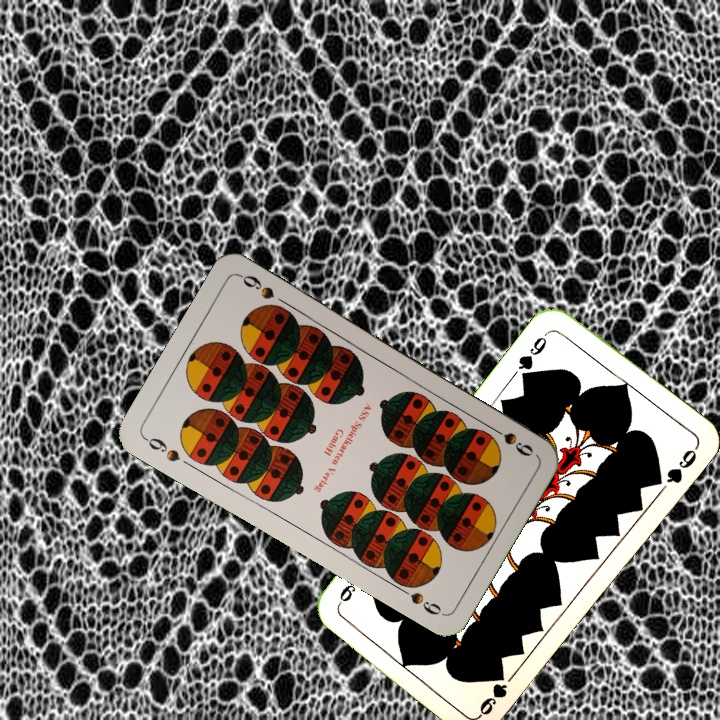G9: (514, 327, 552, 382), (475, 672, 510, 718)
S9: (484, 421, 536, 459), (140, 433, 183, 465)
